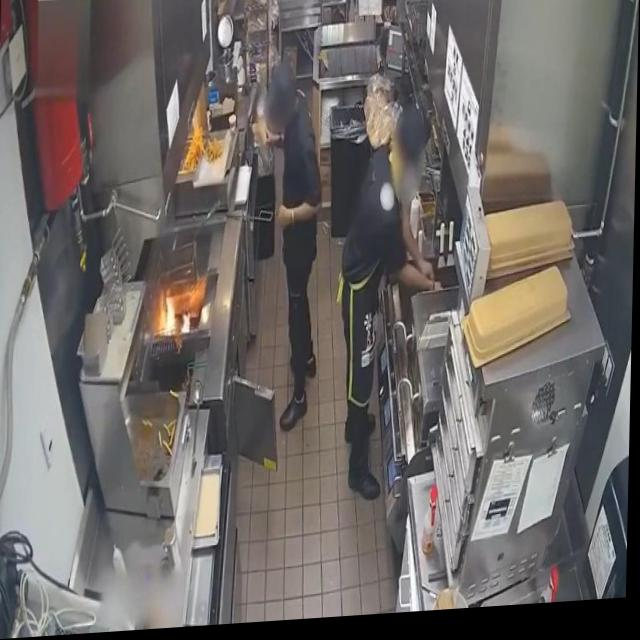fire: (159, 293, 195, 337)
